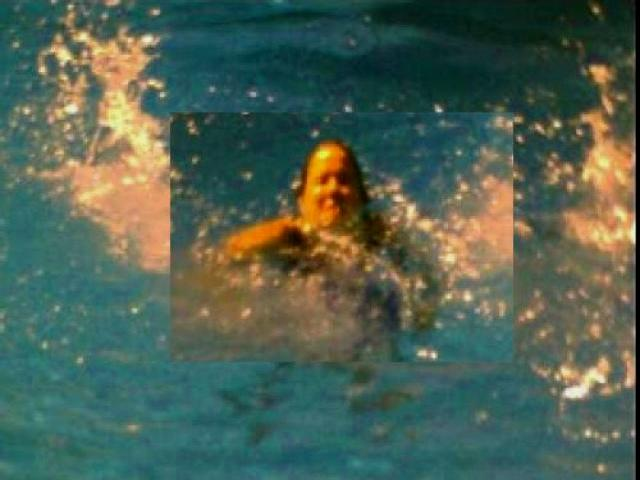drowning: (170, 113, 515, 363)
